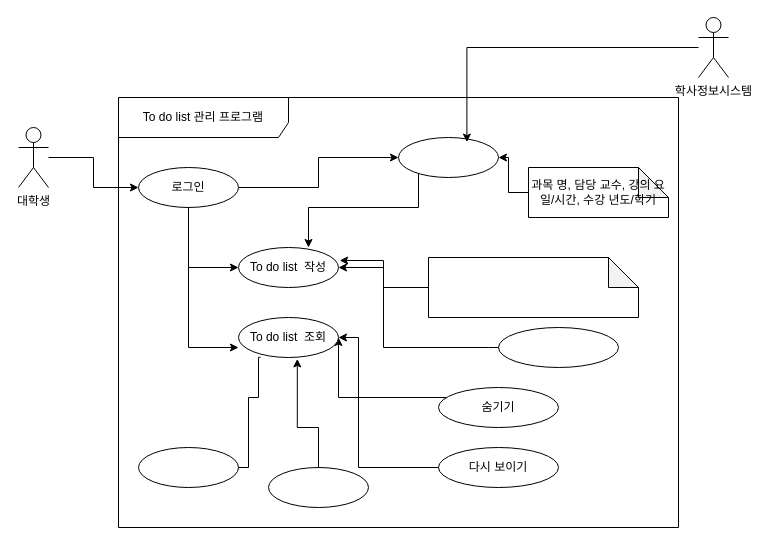
Image size: 769x545. Some labels were removed from this diagram. The shapes that lost their labels are listed below. From the top down, each one's centre as x and y in pixels, then its label:
At (448,157): "과목 등록".
At (533,287): "To do 항목 명, 마감 기한, 실제 마감일, 완료 여부, 중요 여부".
At (558,347): "중요 항목 별도 표시".
At (188,467): "정렬 가능".
At (318,487): "추가/삭제/변경".
